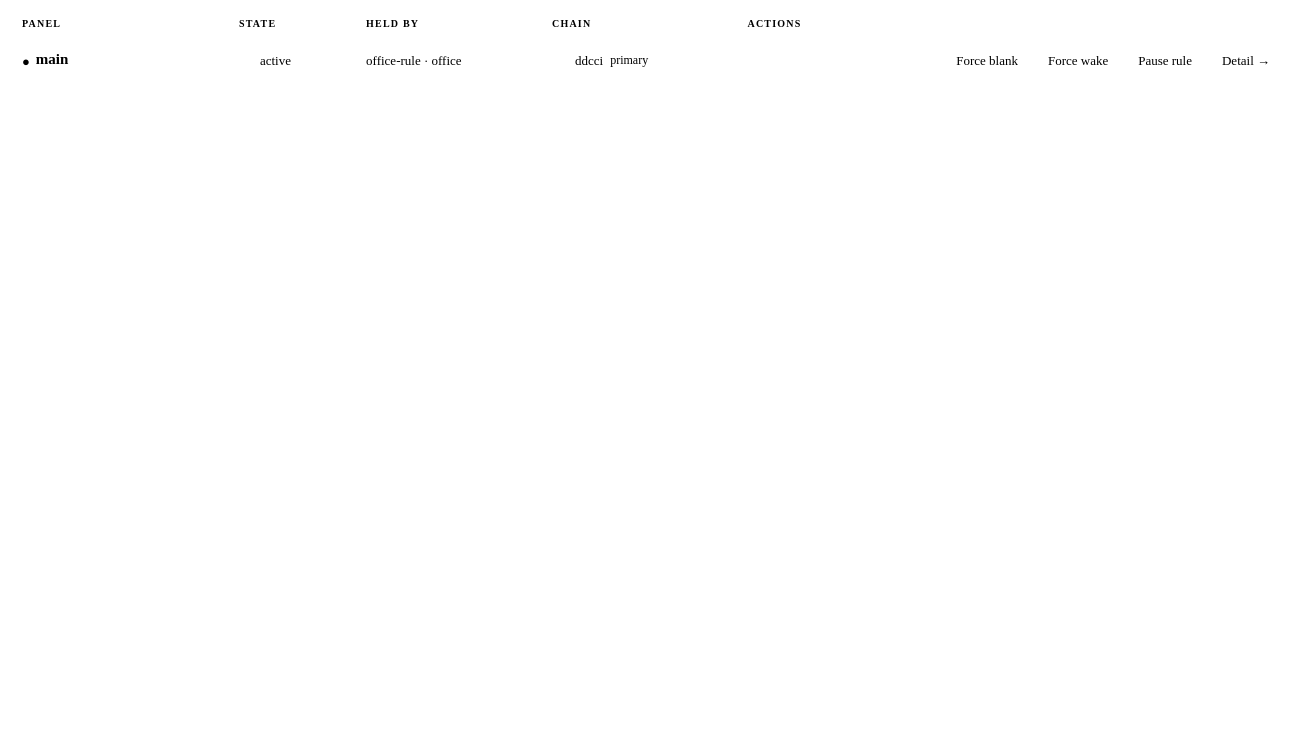
Test case: switches between the display list and selected detail in one view
Step 1. Click the button "Detail →" → (1246, 60), box [1210,47,1282,74]
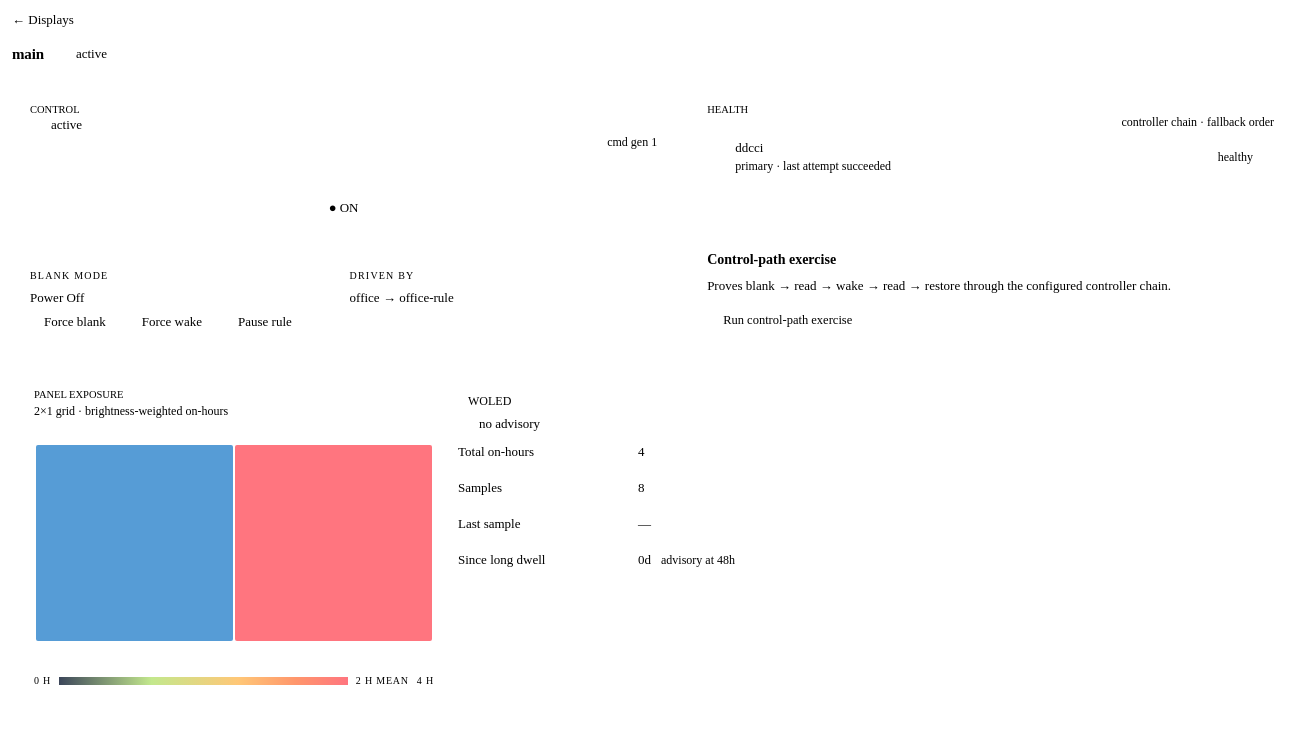
Result: the table named "main panel wear heat map" is shown at [34,443,434,643]
Step 2. Click the button "← Displays" → (43, 20), box [12,12,74,28]
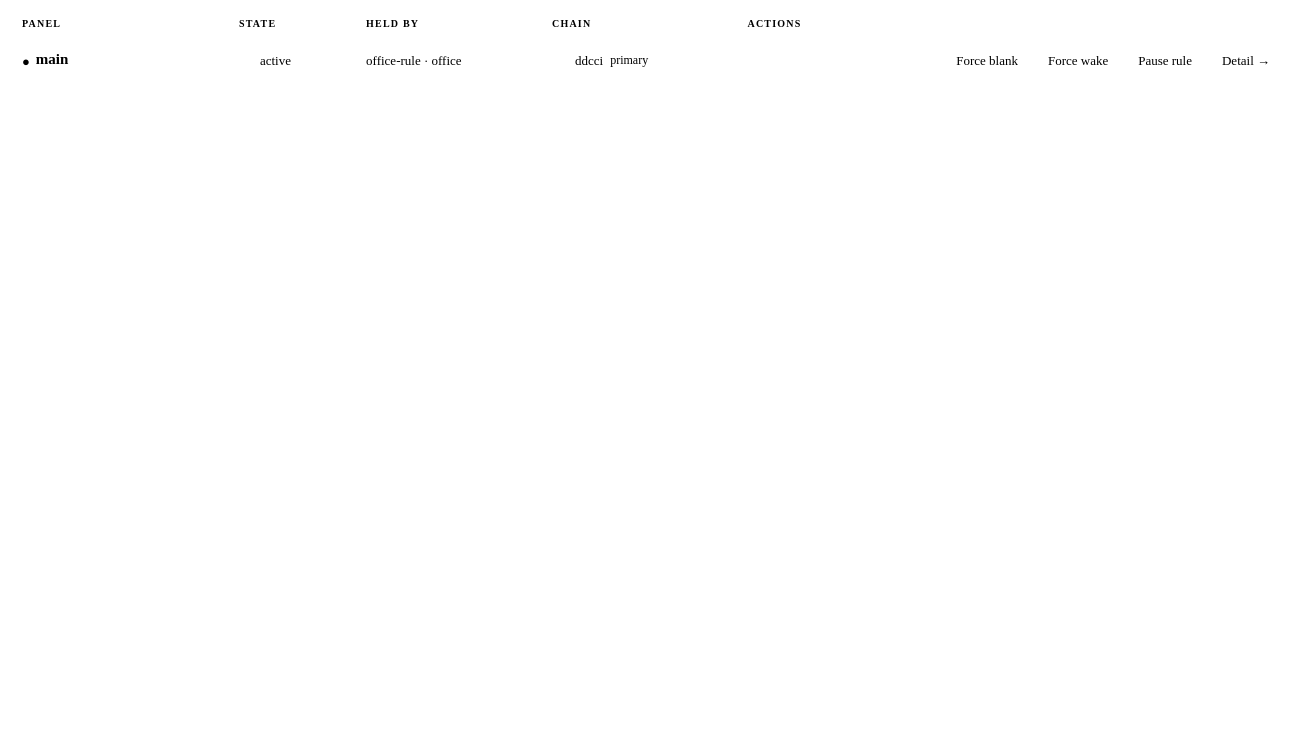
Result: the button "Detail →" is shown at [1210,47,1282,74]
